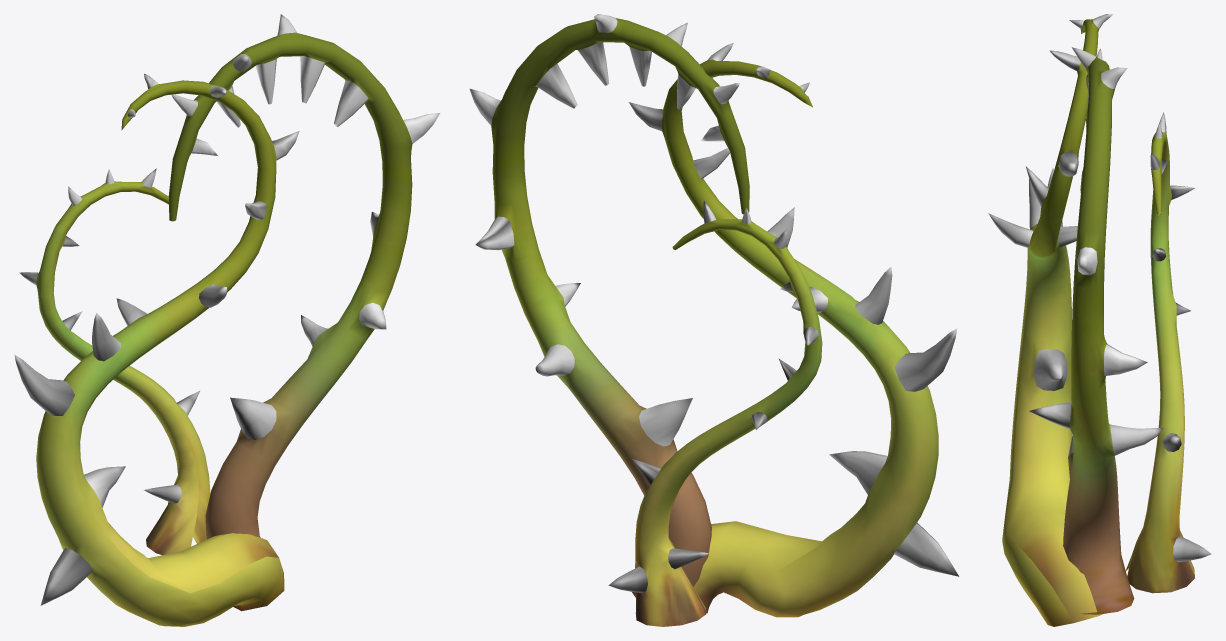
The model's file is Plant_2.fbx.
3 renders of one model, left to right at view 1: azimuth 30°, elevation 25°; view 2: azimuth 150°, elevation 25°; view 3: azimuth 270°, elevation 25°, orthographic. The views are drawn at different scales.
Visible parts, largest first — view 1: Plant_2; view 2: Plant_2; view 3: Plant_2.
Boxes of the visible parts, x1,y1,x2,y2 form: Plant_2: [14, 14, 440, 626]; Plant_2: [469, 14, 959, 626]; Plant_2: [988, 14, 1211, 626].
Bounding box in the file's own units: 6.75 × 8.15 × 2.82.
